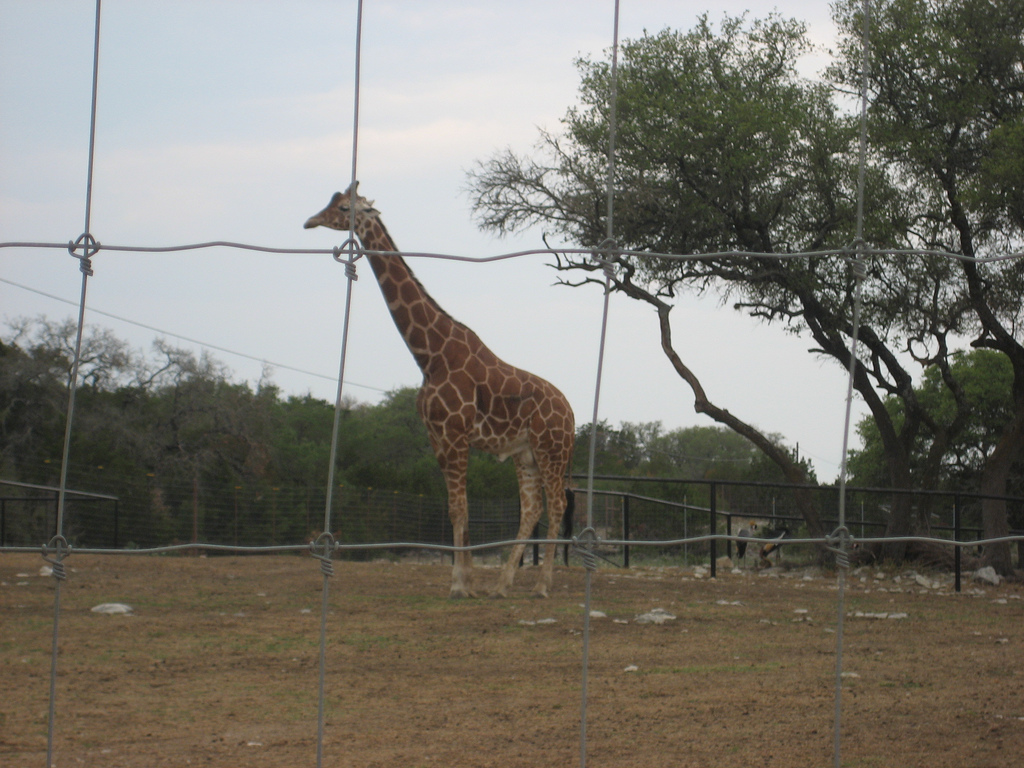giraffe: (309, 158, 622, 613)
